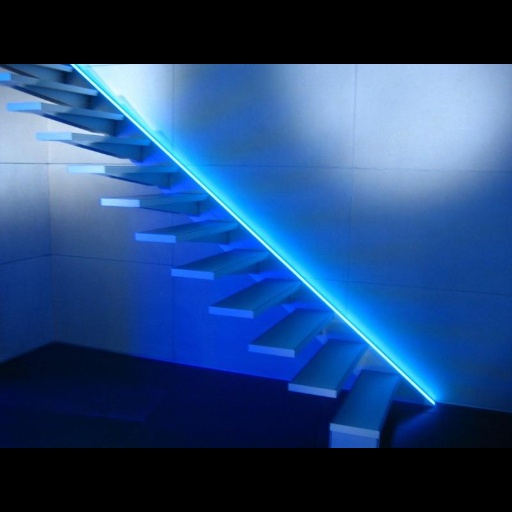Stairs: (0, 65, 455, 450)
